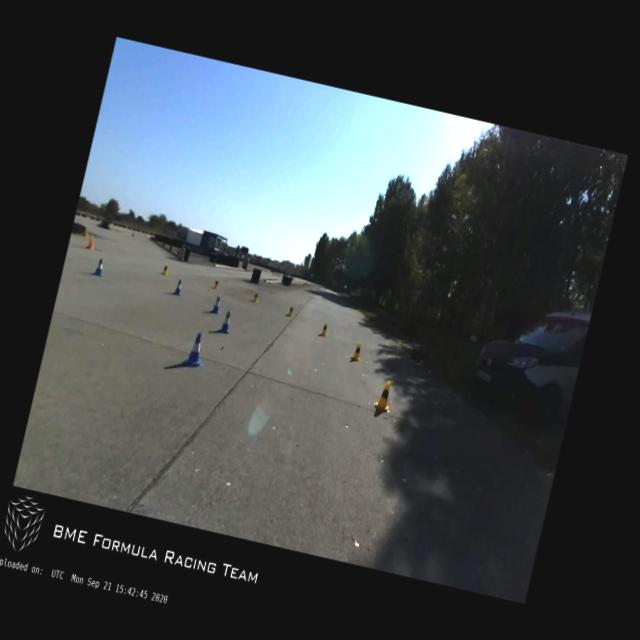blue_cone: (180, 331, 208, 368), (218, 309, 235, 334), (92, 258, 106, 276), (210, 294, 222, 314), (172, 278, 184, 296)
yellow_cone: (372, 378, 396, 414), (350, 341, 363, 362), (320, 320, 328, 336), (286, 304, 294, 318), (251, 292, 260, 303), (161, 264, 169, 276), (213, 279, 220, 290)
